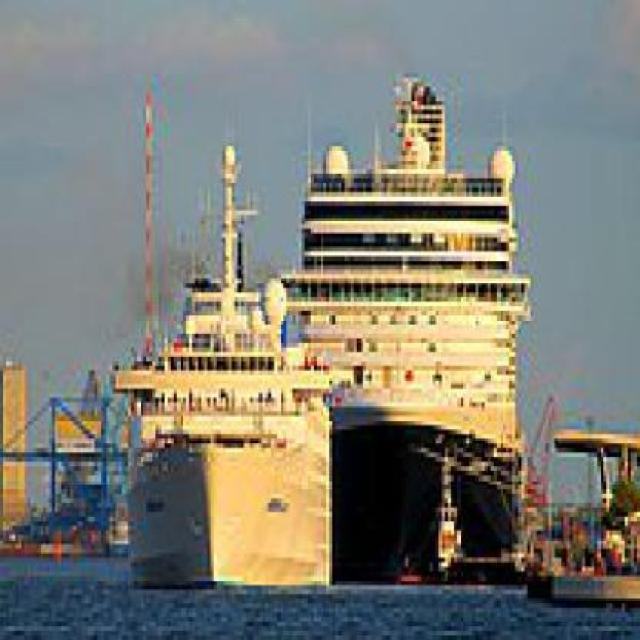cruise: (275, 74, 541, 596), (110, 124, 352, 600)
